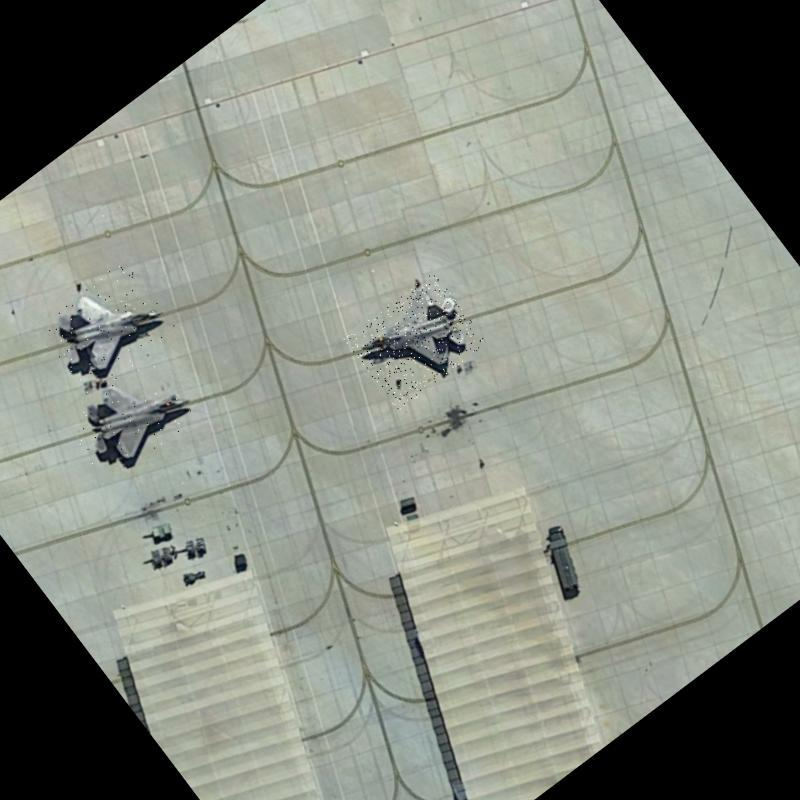A15: (56, 347, 202, 488), (344, 270, 488, 412), (35, 258, 176, 394)
